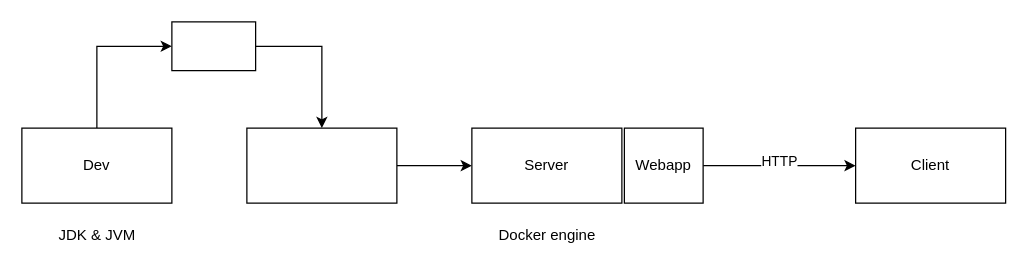
The diagram is 1028 pixels wide and 274 high, and some of its shapes have lost their labels. Each missing label, with the box of its shape:
Container: (171, 21, 256, 71)
Github: (246, 127, 397, 203)
